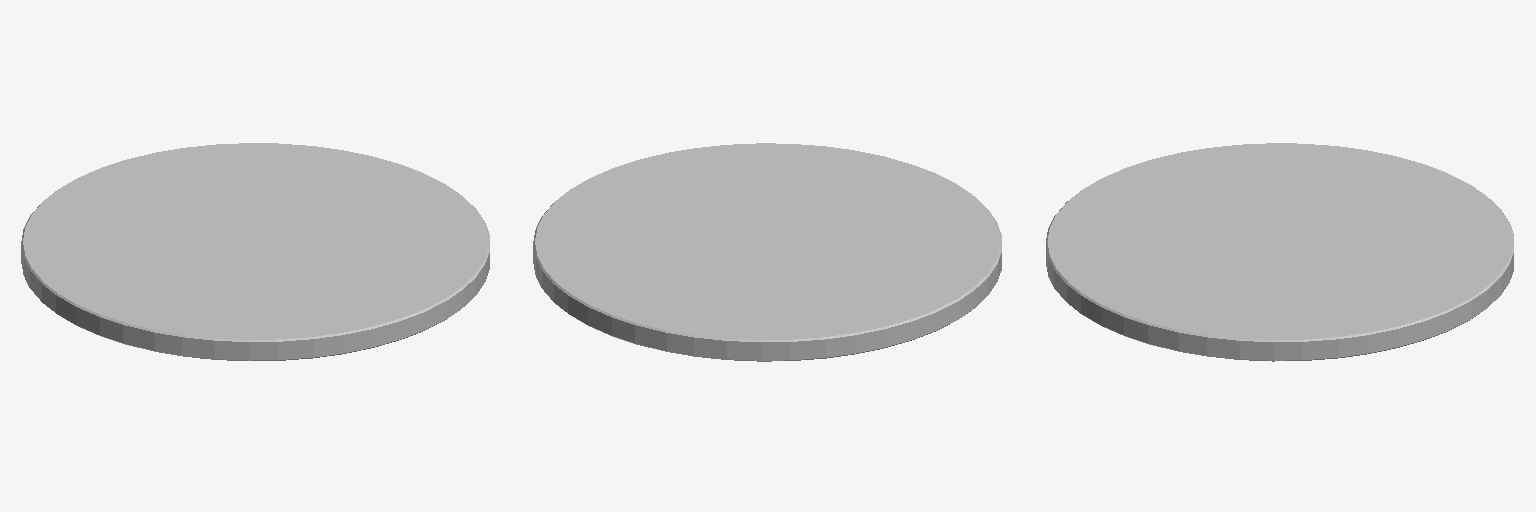
Rendered from circular_coaster_01.obj.
3 renders of one model, left to right at view 1: azimuth 30°, elevation 25°; view 2: azimuth 150°, elevation 25°; view 3: azimuth 270°, elevation 25°, orthographic.
Parts seen in each view (by area): view 1: Coaster2_Cylinder.017; view 2: Coaster2_Cylinder.017; view 3: Coaster2_Cylinder.017.
Part boxes in pixels (left/top/right/bottom): Coaster2_Cylinder.017: left=21, top=143, right=489, bottom=360; Coaster2_Cylinder.017: left=533, top=143, right=1001, bottom=361; Coaster2_Cylinder.017: left=1046, top=143, right=1513, bottom=361.
Size of the model in its own units: 0.0985 by 0.0067 by 0.0984.